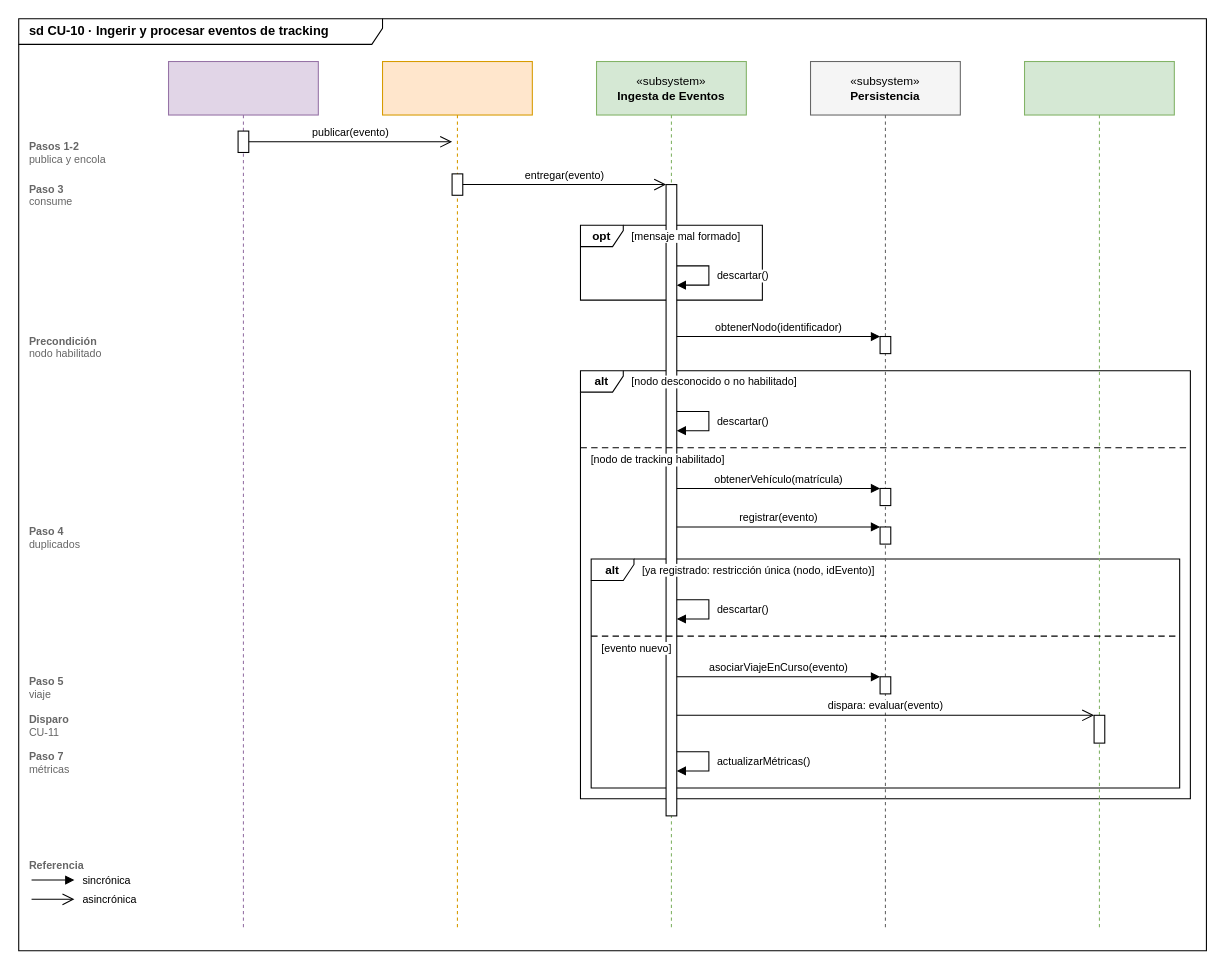
The diagram is 1225 pixels wide and 969 high, and some of its shapes have lost their labels. Each missing label, with the box of its shape:
«subsystem» Mensajería: (381, 60, 532, 929)
«subsystem» Motor de Fiscalización: (1023, 60, 1174, 929)
«subsystem» Nodo Periférico Tracking: (167, 60, 318, 929)
